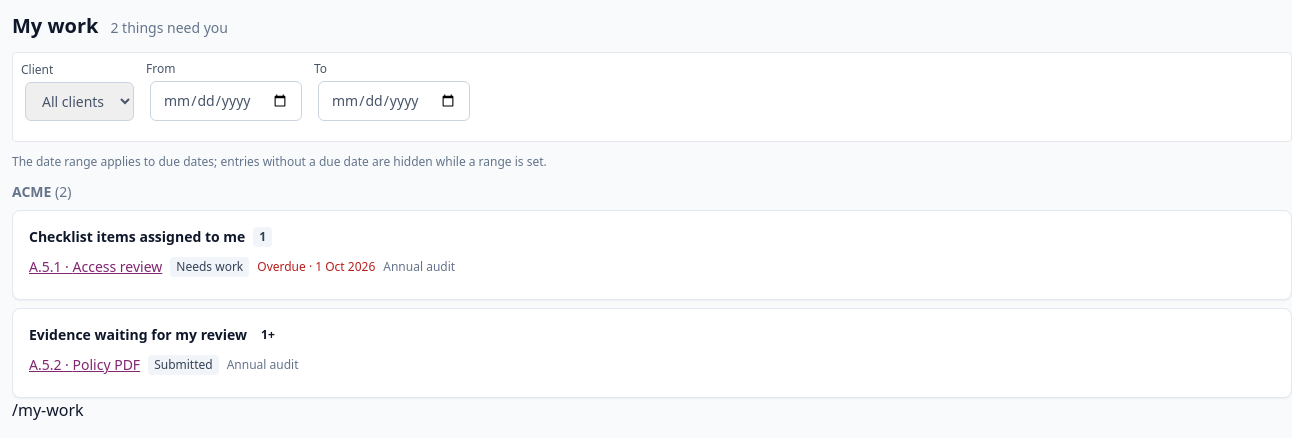
My Work lists sections per organization with overdue marks, and offers engagement/framework filters once one client is chosen
Expected: the text "2 things need you" is shown, x1=110 y1=18 x2=228 y2=38
Expected: the text "Overdue · 1 Oct 2026" is shown, x1=257 y1=259 x2=375 y2=275
Select "Acme" in the dropdown labelled "Client": (80, 102) x1=25 y1=82 x2=134 y2=121
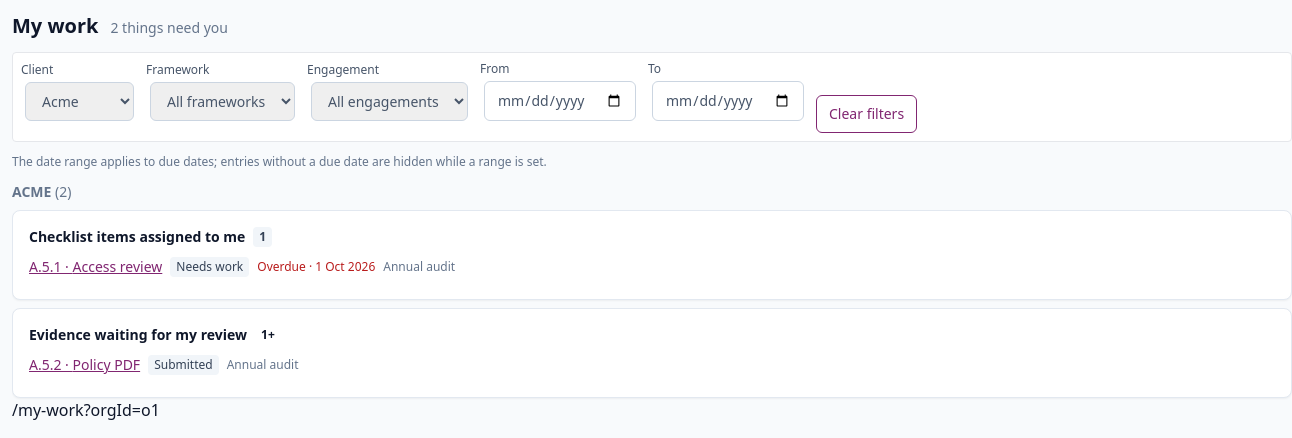
Now the dropdown labelled "Engagement" is shown, box x1=311 y1=82 x2=468 y2=121
Now the dropdown labelled "Framework" is shown, box x1=150 y1=82 x2=295 y2=121
In the date field labelled "From": (560, 101) x1=484 y1=81 x2=636 y2=121, type "2026-10-01"
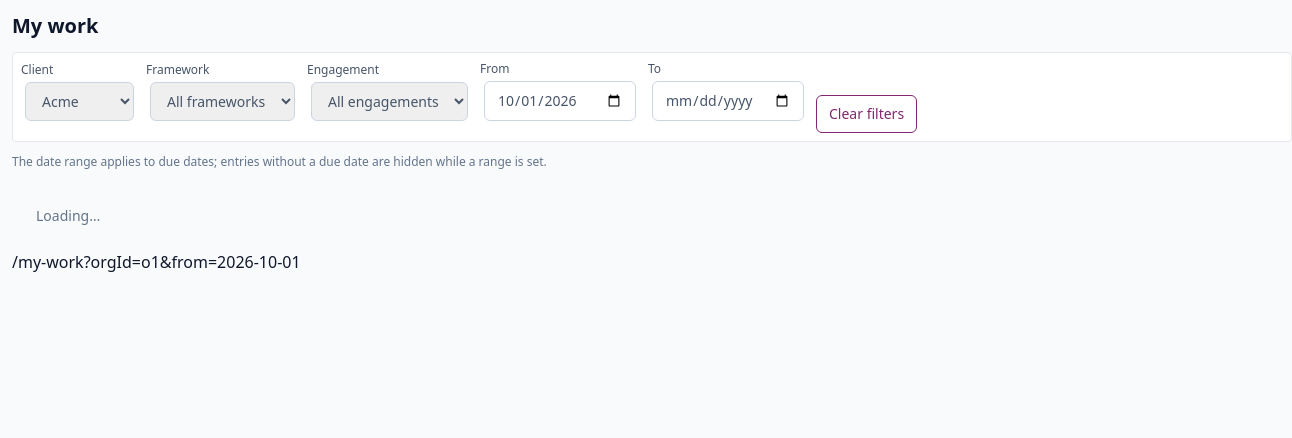
Click the button "Clear filters": (867, 114) x1=816 y1=95 x2=917 y2=133
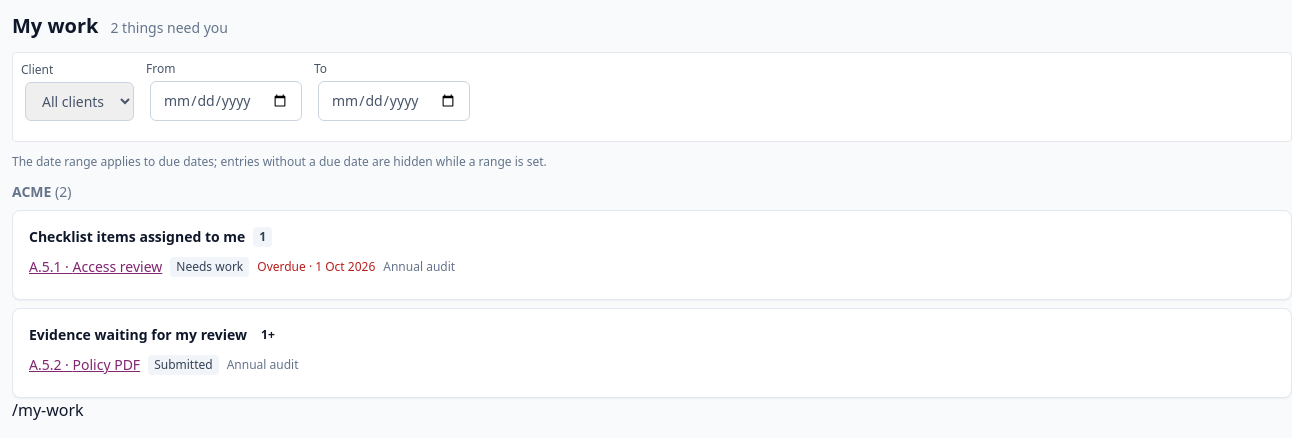
Now the text with test id "loc" reads "/my-work", box x1=12 y1=399 x2=84 y2=421
